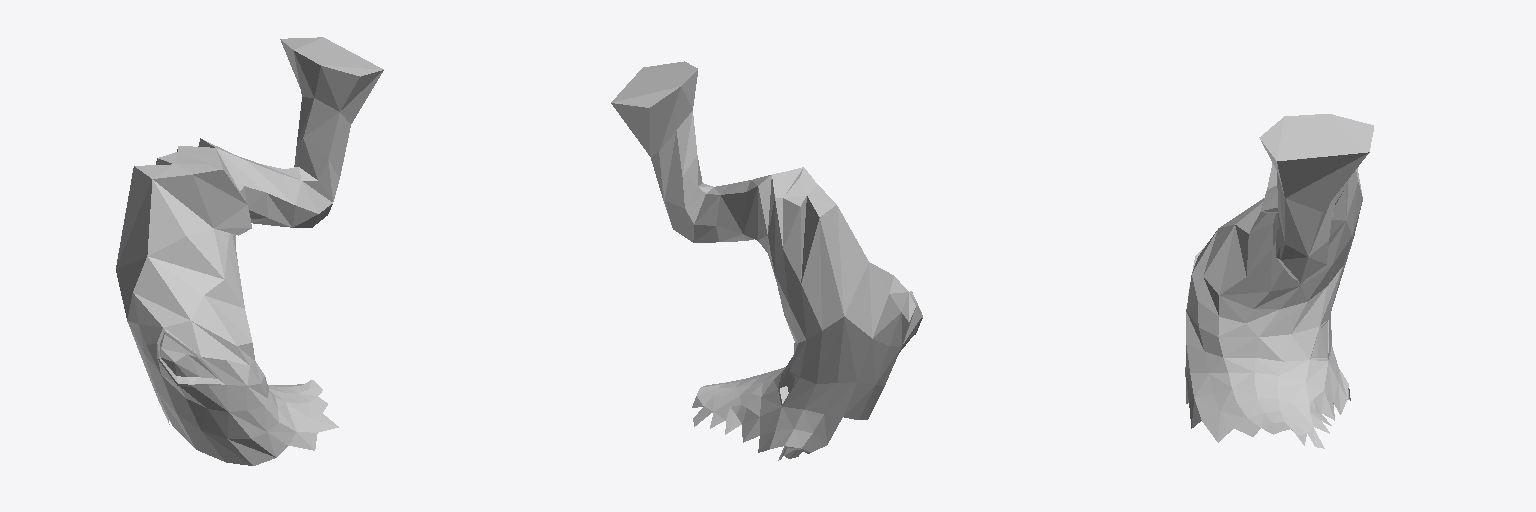
The model's file is StumpStep.obj.
3 renders of one model, left to right at view 1: azimuth 30°, elevation 25°; view 2: azimuth 150°, elevation 25°; view 3: azimuth 270°, elevation 25°, orthographic.
Parts seen in each view (by area): view 1: Group60459; view 2: Group60459; view 3: Group60459.
Part boxes in pixels (bbox=[...]): Group60459: bbox=[116, 37, 383, 465]; Group60459: bbox=[611, 61, 922, 460]; Group60459: bbox=[1185, 114, 1373, 448].
Bounding box in the file's own units: 16.12 × 20.98 × 10.42.